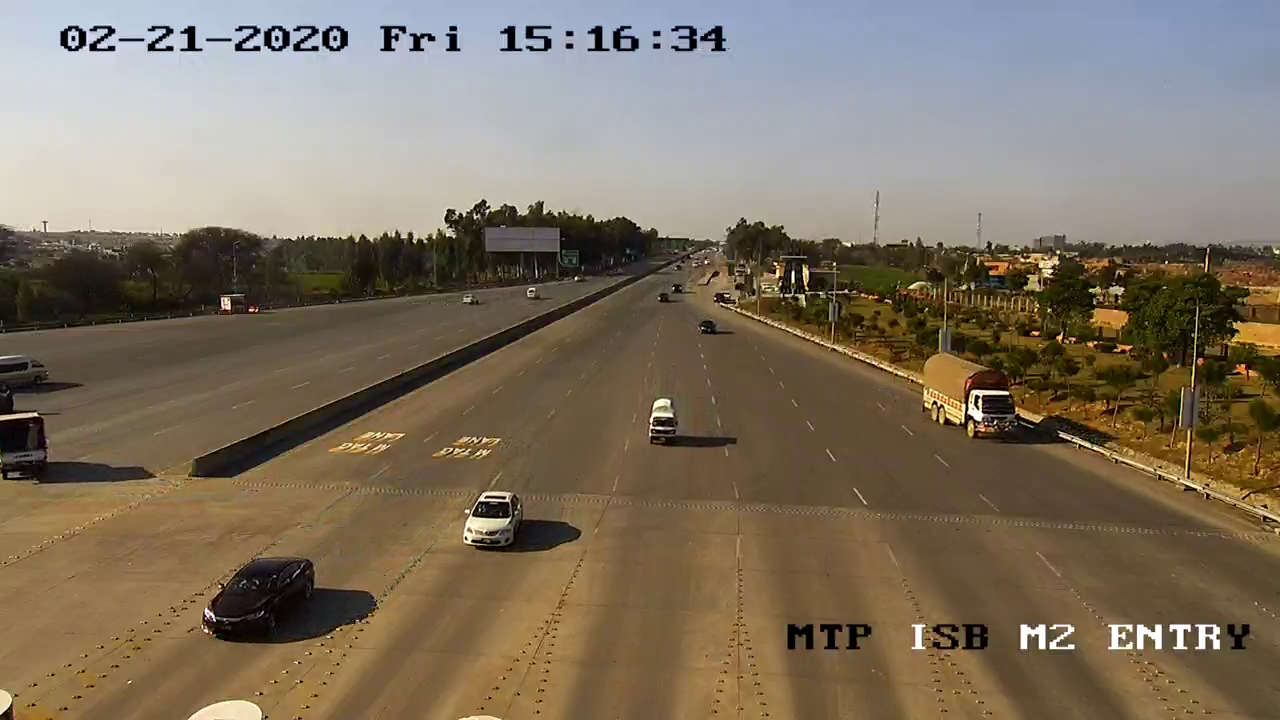f1: (196, 546, 322, 647), (460, 483, 533, 563), (639, 392, 686, 451)
f5: (918, 349, 1028, 449)
